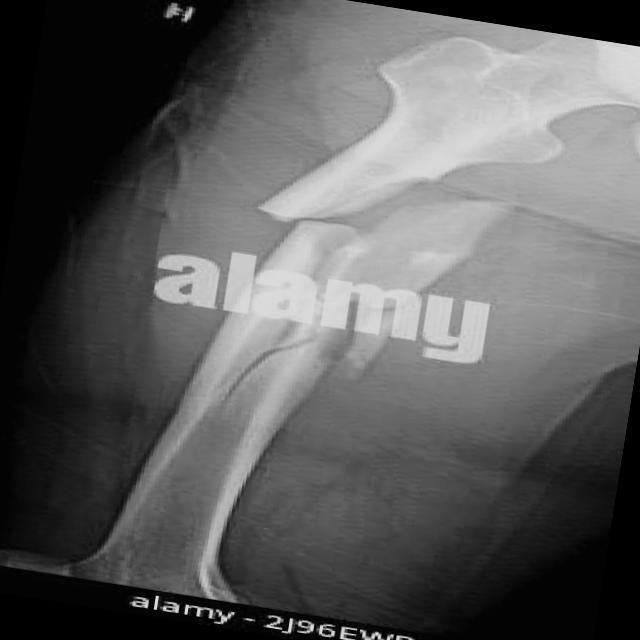Comminuted Fracture: (241, 165, 476, 230)
